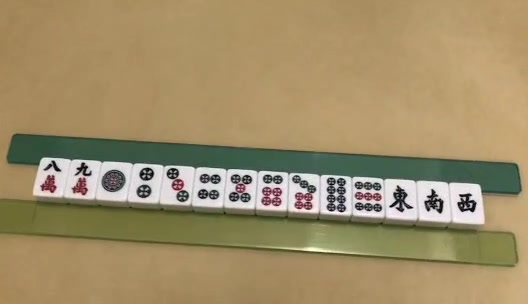1p: (101, 170, 125, 193)
1z: (389, 184, 414, 214)
2p: (136, 167, 154, 198)
2z: (424, 190, 444, 215)
3p: (166, 169, 189, 203)
3z: (457, 192, 477, 213)
4p: (198, 174, 219, 200)
5p: (228, 173, 251, 203)
6p: (261, 175, 282, 206)
7p: (292, 175, 315, 209)
8m: (36, 160, 61, 195)
8p: (327, 178, 345, 212)
9m: (73, 161, 92, 195)
9p: (354, 183, 381, 212)
